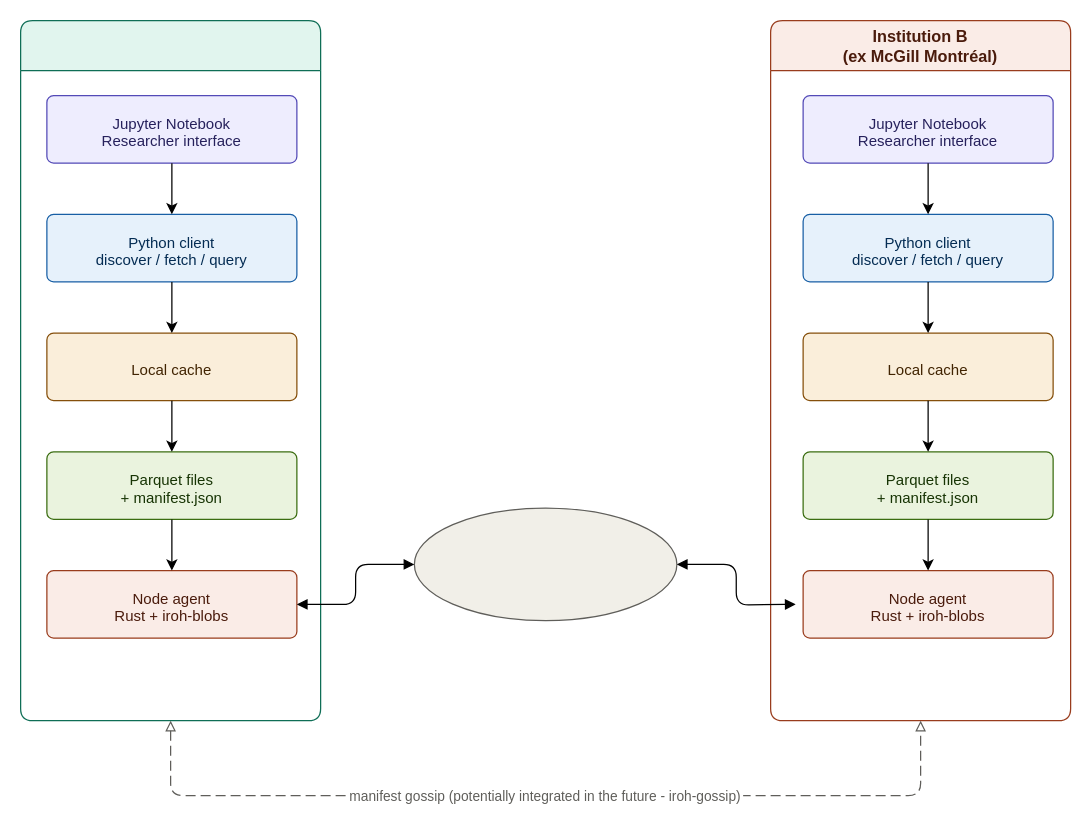
Some shapes in this 1091 by 826 pixel diagram are drawn without their labels. Each missing label, with the box of its shape:
Institution A (ex HES-SO Sion): (19, 19, 321, 721)
iroh P2P network NAT traversal + relay: (413, 507, 677, 621)
